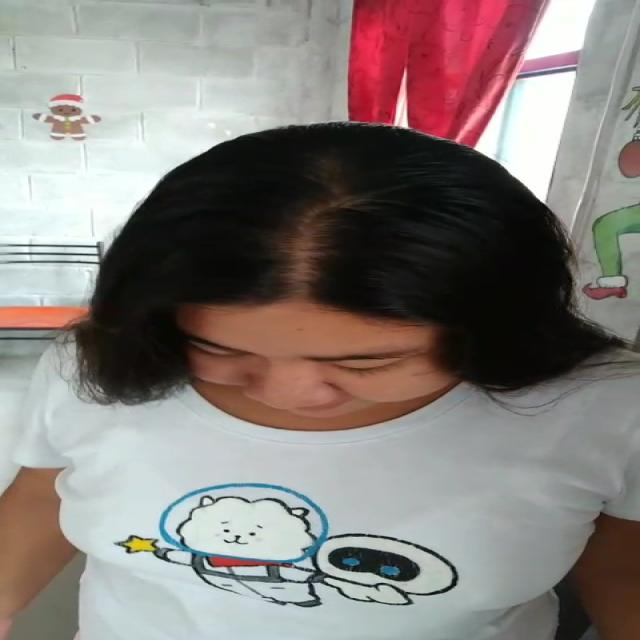9_cabeza_baja: (85, 122, 601, 420)
